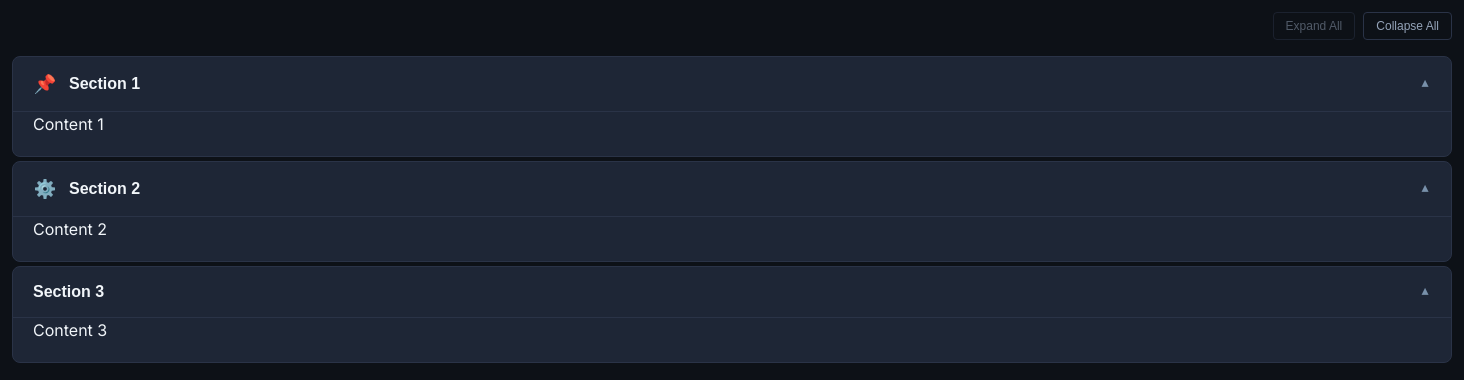
Scenario: SettingsAccordion › Expand All / Collapse All › collapses all sections when Collapse All is clicked
The image size is (1464, 380).
What coordinates should you click on to do the following:
click the button "Collapse All"
I would click on:
 (1408, 26)
Its box is [1363,12,1452,40].
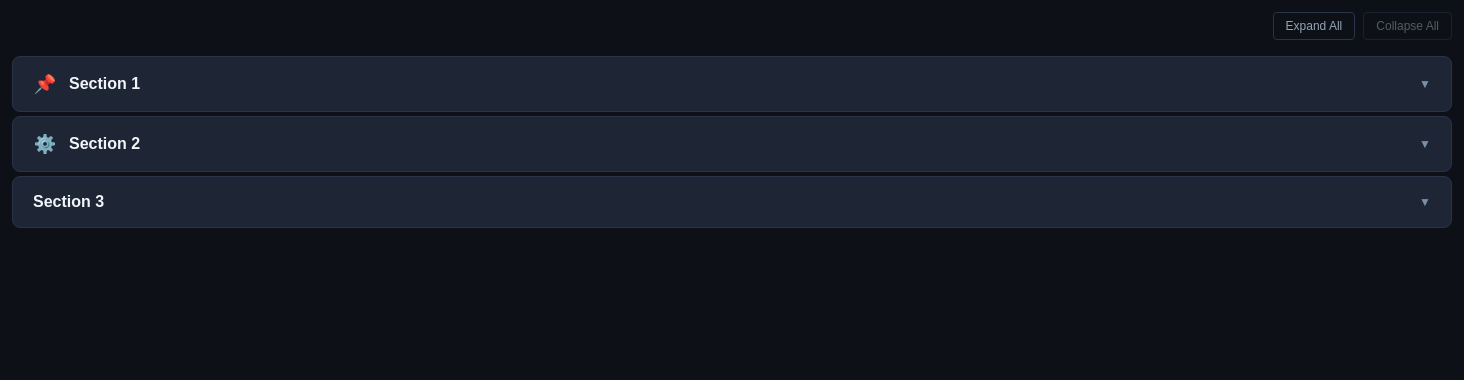
Result: the text "Content 1" is gone
Result: the text "Content 2" is gone
Result: the text "Content 3" is gone
